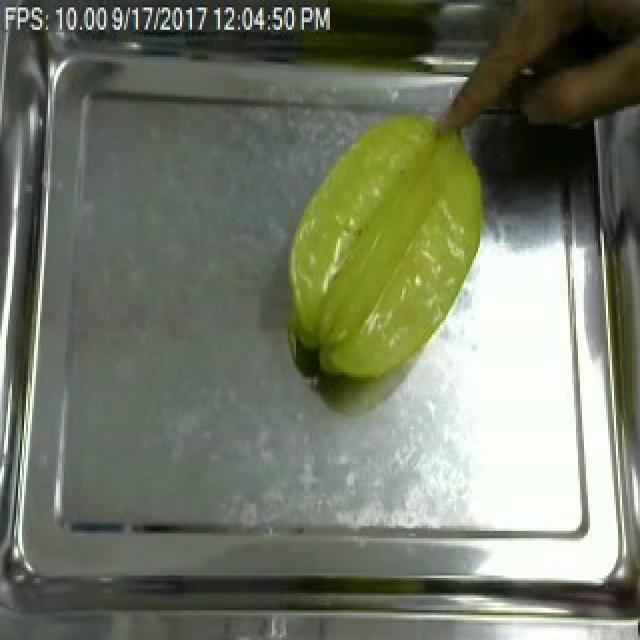fruit: (272, 102, 496, 394)
